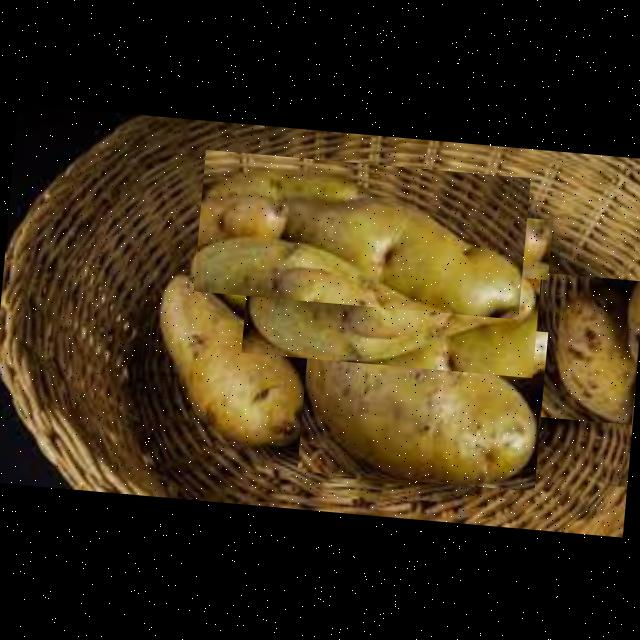Defected potato: (193, 150, 530, 320), (297, 311, 548, 491), (241, 236, 542, 378), (146, 270, 316, 454), (529, 272, 640, 424), (432, 210, 552, 280)
